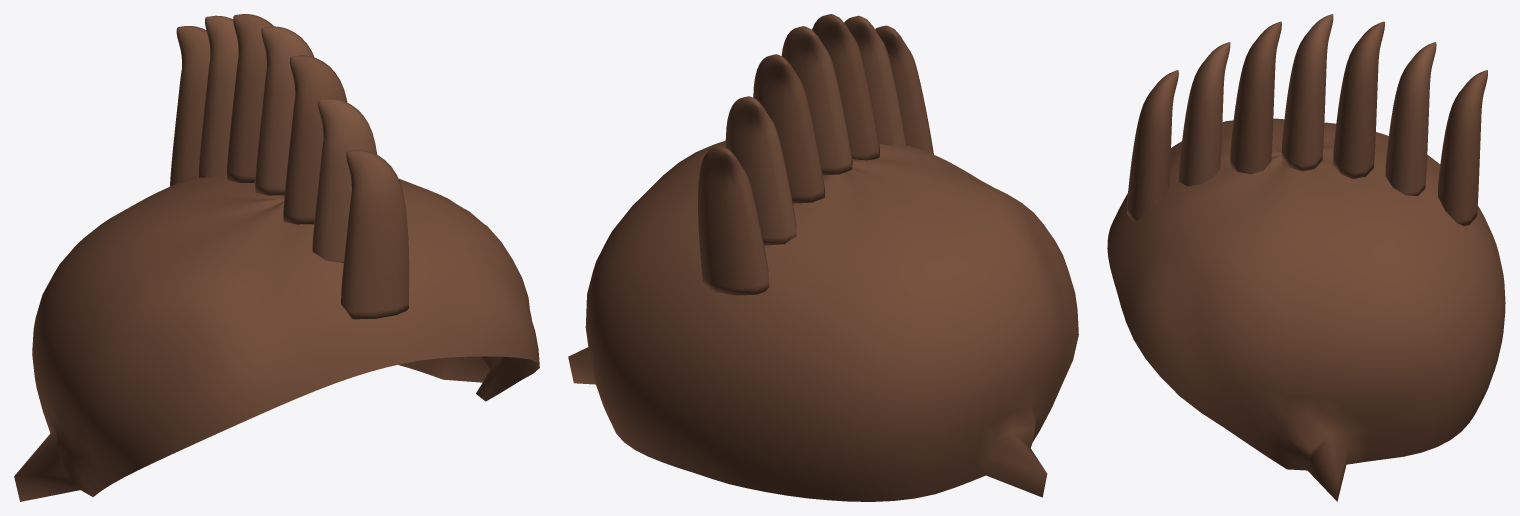
3 renders of one model, left to right at view 1: azimuth 30°, elevation 25°; view 2: azimuth 150°, elevation 25°; view 3: azimuth 270°, elevation 25°, orthographic. The views are drawn at different scales.
Visible parts, largest first — view 1: Mohawk; view 2: Mohawk; view 3: Mohawk.
Part boxes in pixels (bbox=[...]): Mohawk: bbox=[14, 14, 539, 501]; Mohawk: bbox=[568, 14, 1078, 501]; Mohawk: bbox=[1107, 14, 1505, 501].
Size of the model in its own units: 1.01 by 0.8154 by 0.7724.
